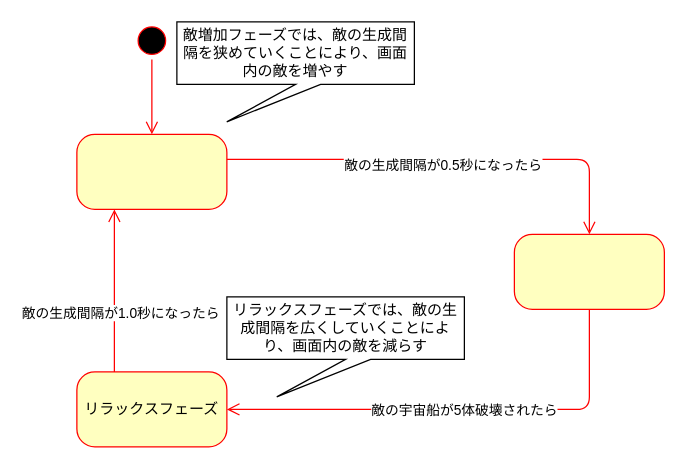
Some shapes in this 686 by 469 pixel diagram are drawn without their labels. Each missing label, with the centre of its shape:
ラッシュフェーズ: (x=588, y=271)
敵増加フェーズ: (x=151, y=171)
